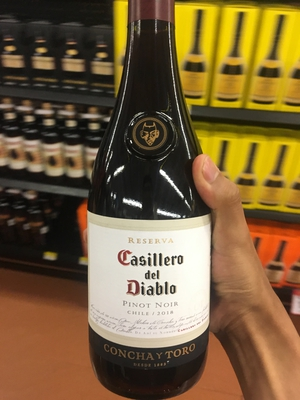casillero del diablo pinot noir: (78, 8, 228, 383)
